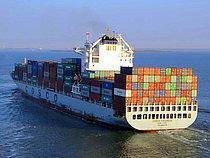Ship: (7, 25, 202, 135)
